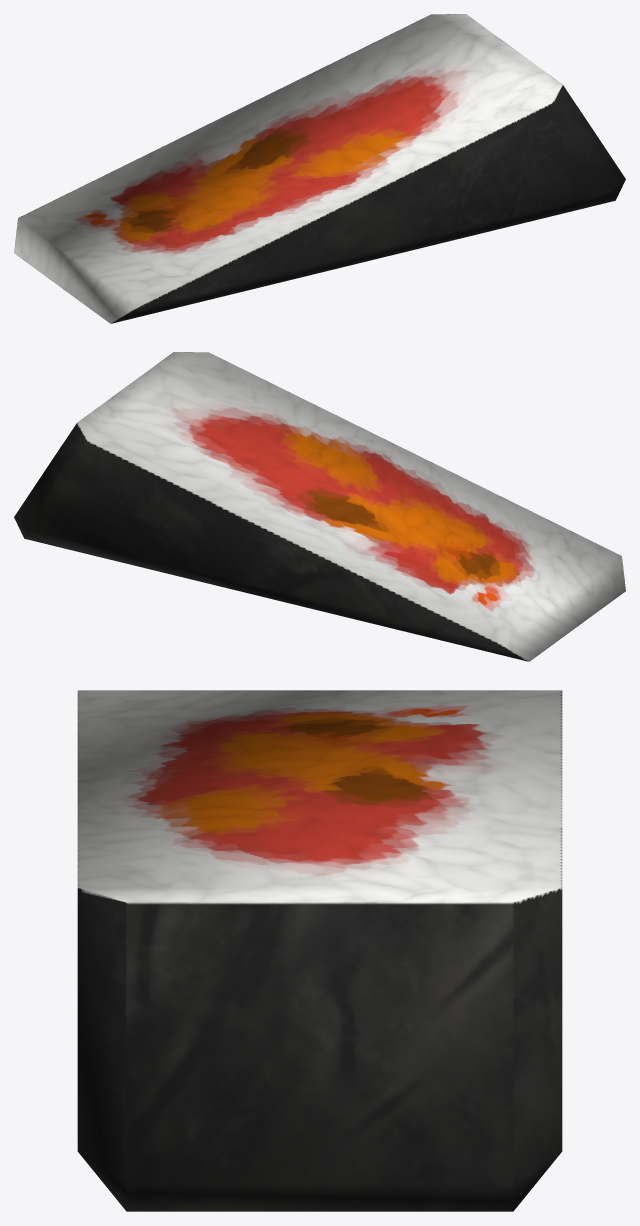
Rendered from onigiri_3.fbx.
3 views of the same model, one above another, from view 1: azimuth 30°, elevation 25°; view 2: azimuth 150°, elevation 25°; view 3: azimuth 270°, elevation 25° (orthographic). The views are drawn at different scales.
Parts seen in each view (by area): view 1: Cube.003; view 2: Cube.003; view 3: Cube.003.
Part boxes in pixels (<box>): Cube.003: <box>14,14,625,323</box>; Cube.003: <box>14,352,625,661</box>; Cube.003: <box>77,690,562,1211</box>.
Bounding box in the file's own units: 10.06 × 2.4 × 4.1.
